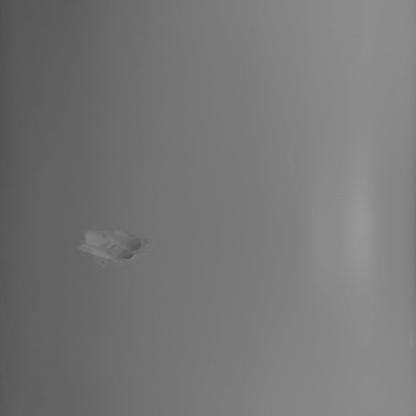sunshang: (77, 230, 150, 263)
